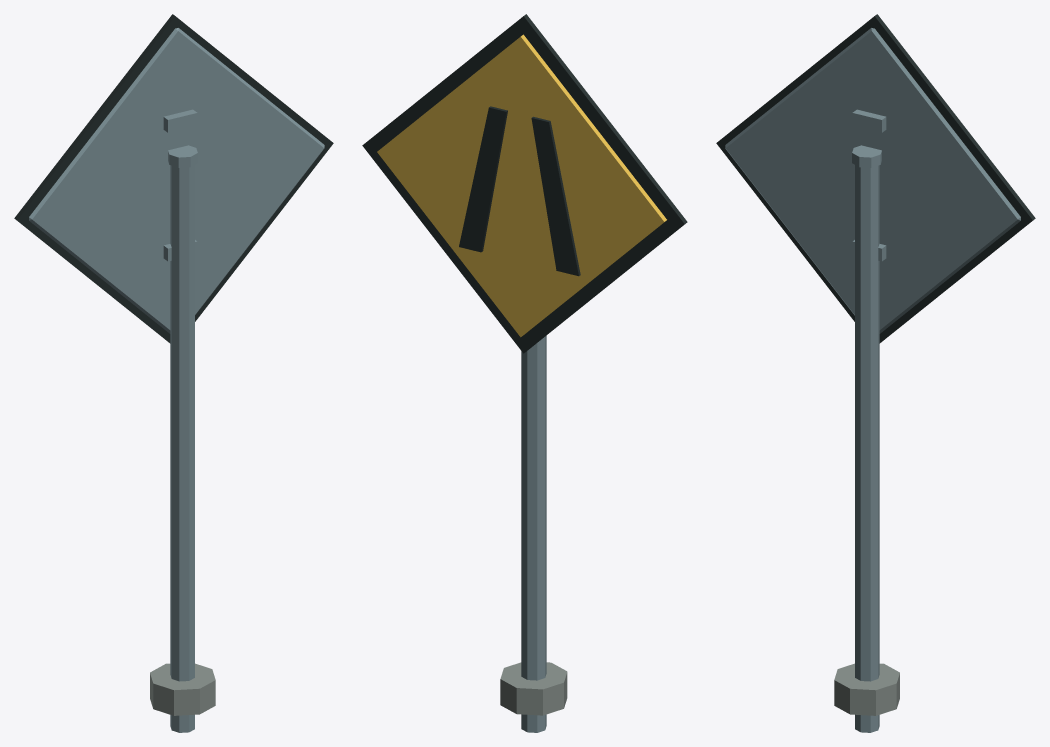
File: sm_env_sign_narrow_bridge.glb
3 renders of one model, left to right at view 1: azimuth 30°, elevation 25°; view 2: azimuth 150°, elevation 25°; view 3: azimuth 330°, elevation 25°, orthographic.
Visible parts, largest first — view 1: SignBack, SignPost, SignBorder, PostBase, SignBracket.001, PostCap; view 2: SignPanel, SignBorder, SignPost, SideRight, SideLeft, PostBase; view 3: SignBack, SignPost, SignBorder, PostBase, SignBracket.001, PostCap.
Boxes of the visible parts, x1,y1,x2,y2 form: SignBack: (29, 28, 324, 333); SignPost: (170, 165, 194, 732); SignBorder: (14, 14, 333, 343); PostBase: (150, 663, 215, 715); SignBracket.001: (163, 109, 197, 132); PostCap: (168, 145, 197, 167); SignPanel: (377, 34, 666, 337); SignBorder: (362, 14, 687, 353); SignPost: (521, 335, 546, 732); SideRight: (531, 116, 580, 276); SideLeft: (459, 106, 507, 252); PostBase: (500, 662, 567, 715); SignBack: (725, 28, 1020, 333); SignPost: (855, 165, 879, 732); SignBorder: (716, 14, 1035, 343); PostBase: (834, 663, 899, 715); SignBracket.001: (852, 109, 886, 132); PostCap: (852, 145, 881, 167).
Bounding box in the file's own units: 1.29 × 2.74 × 0.24.
